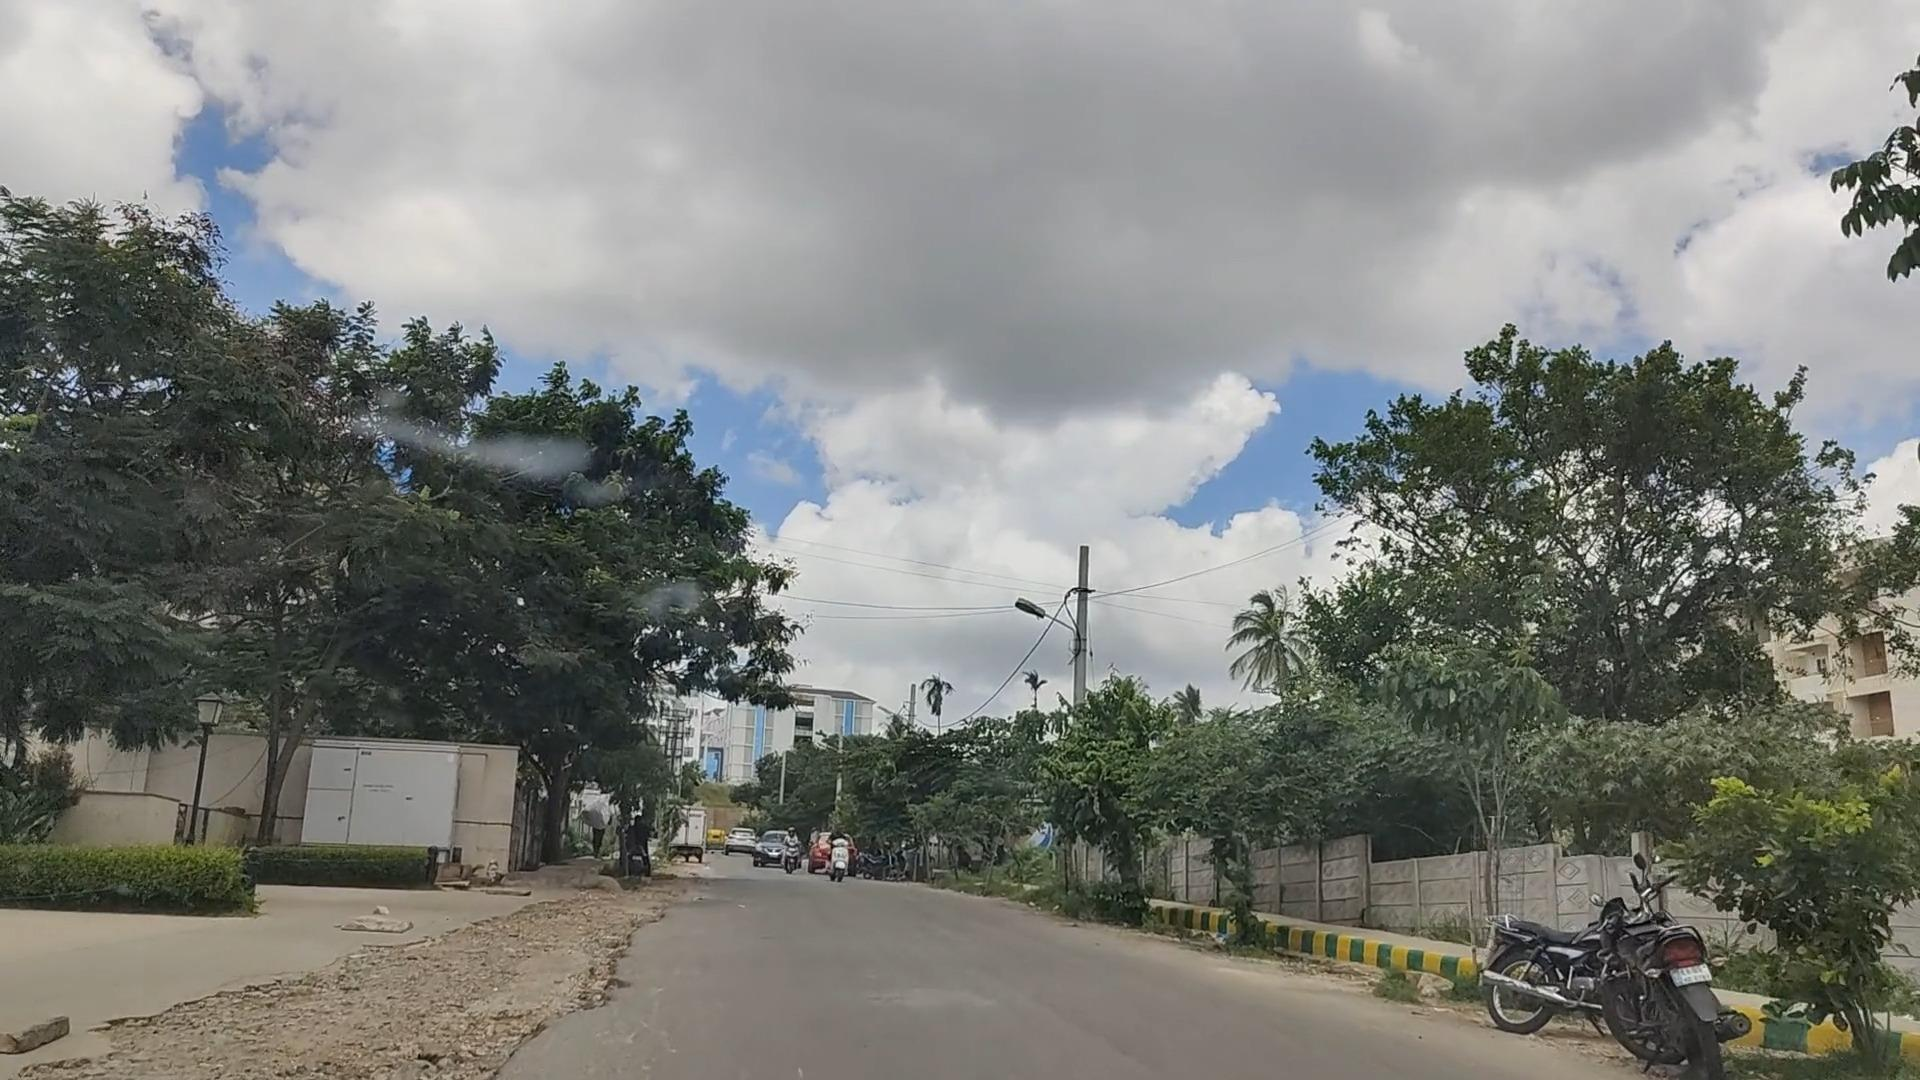RoadDamages: (121, 885, 781, 1048)
